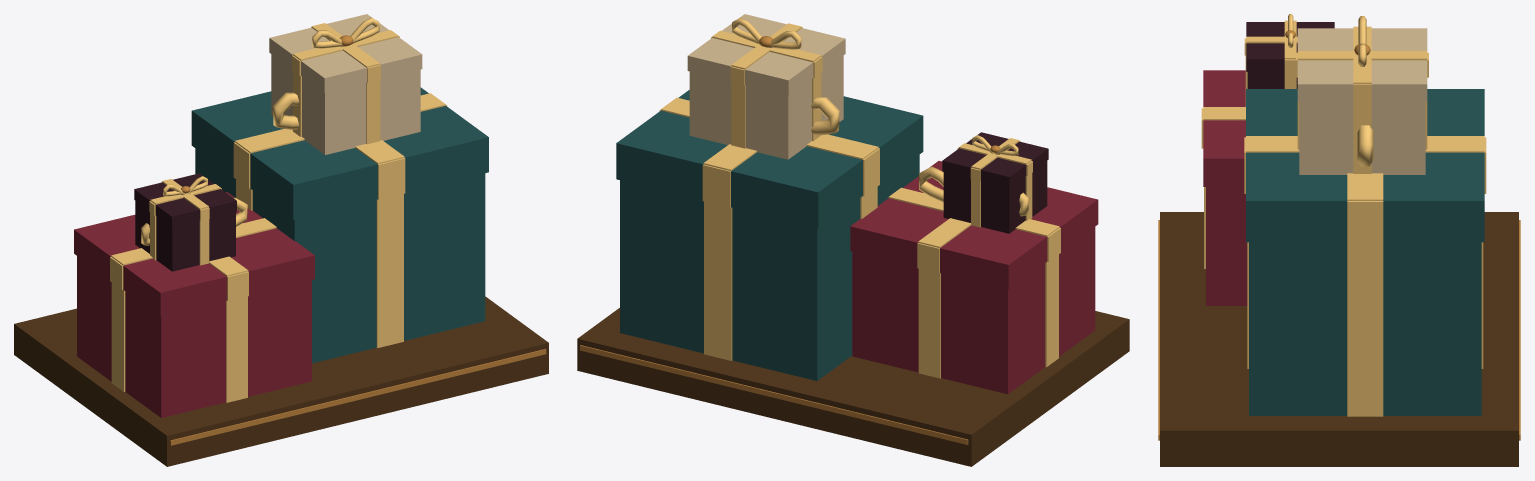
File: mia-xmas_stack.glb
3 views of the same model, side by side, from view 1: azimuth 30°, elevation 25°; view 2: azimuth 150°, elevation 25°; view 3: azimuth 270°, elevation 25° (orthographic). The views are drawn at different scales.
Parts seen in each view (by area): view 1: Body_teal, Body_velvet, Body_wood, Body_trim, Body_ivory, Body_dark, Body_brass; view 2: Body_teal, Body_velvet, Body_wood, Body_trim, Body_ivory, Body_dark, Body_brass; view 3: Body_teal, Body_wood, Body_trim, Body_ivory, Body_velvet, Body_dark, Body_brass.
Boxes of the visible parts, x1,y1,x2,y2 form: Body_teal: [191, 87, 488, 363]; Body_velvet: [74, 192, 314, 417]; Body_wood: [14, 296, 548, 466]; Body_trim: [110, 17, 447, 402]; Body_ivory: [269, 14, 422, 154]; Body_dark: [134, 173, 236, 271]; Body_brass: [170, 35, 546, 445]; Body_teal: [616, 90, 923, 380]; Body_velvet: [850, 161, 1098, 394]; Body_wood: [577, 308, 1129, 466]; Body_trim: [659, 18, 1060, 378]; Body_ivory: [687, 14, 845, 159]; Body_dark: [942, 132, 1048, 233]; Body_brass: [580, 36, 1000, 444]; Body_teal: [1246, 89, 1484, 415]; Body_wood: [1160, 212, 1518, 466]; Body_trim: [1201, 14, 1486, 416]; Body_ivory: [1297, 28, 1427, 174]; Body_velvet: [1203, 70, 1247, 305]; Body_dark: [1246, 22, 1334, 88]; Body_brass: [1158, 30, 1520, 440].
Bounding box in the file's own units: 1.8 × 1.42 × 1.26.
